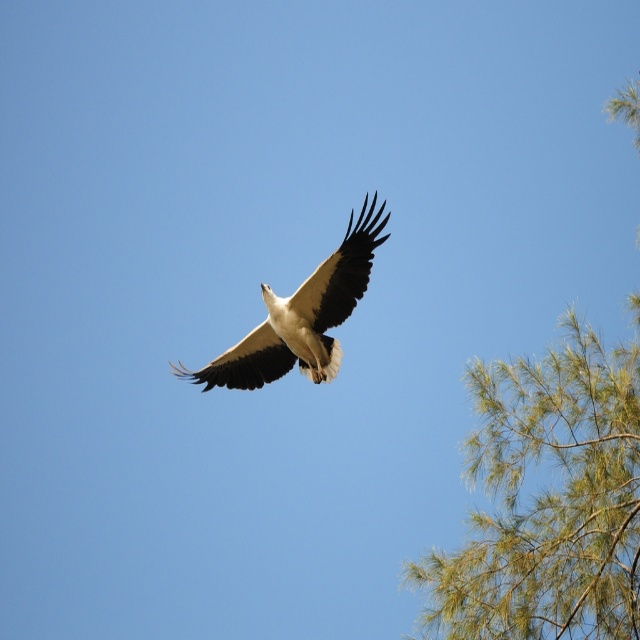Eagle: (167, 190, 391, 393)
